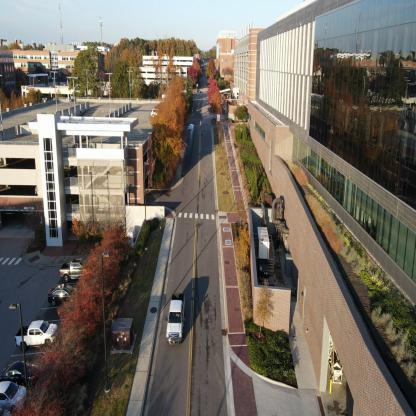EB-1: (222, 19, 250, 123)
Fitts- Woolard: (252, 19, 415, 342)
